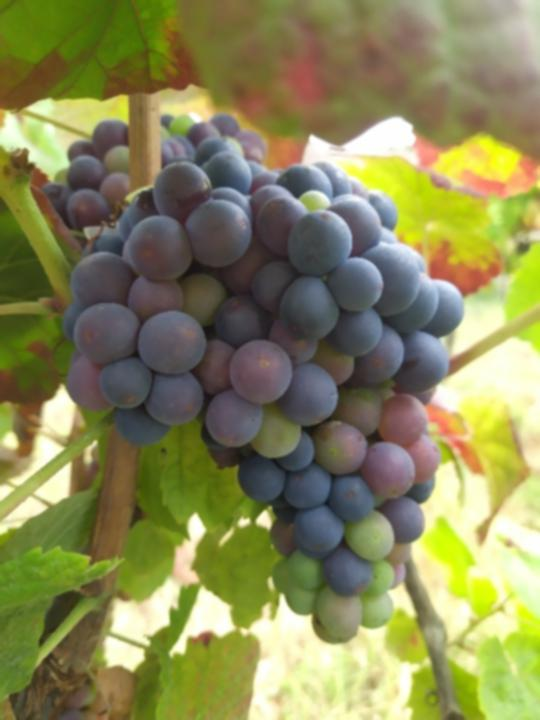grape: (62, 136, 467, 647)
